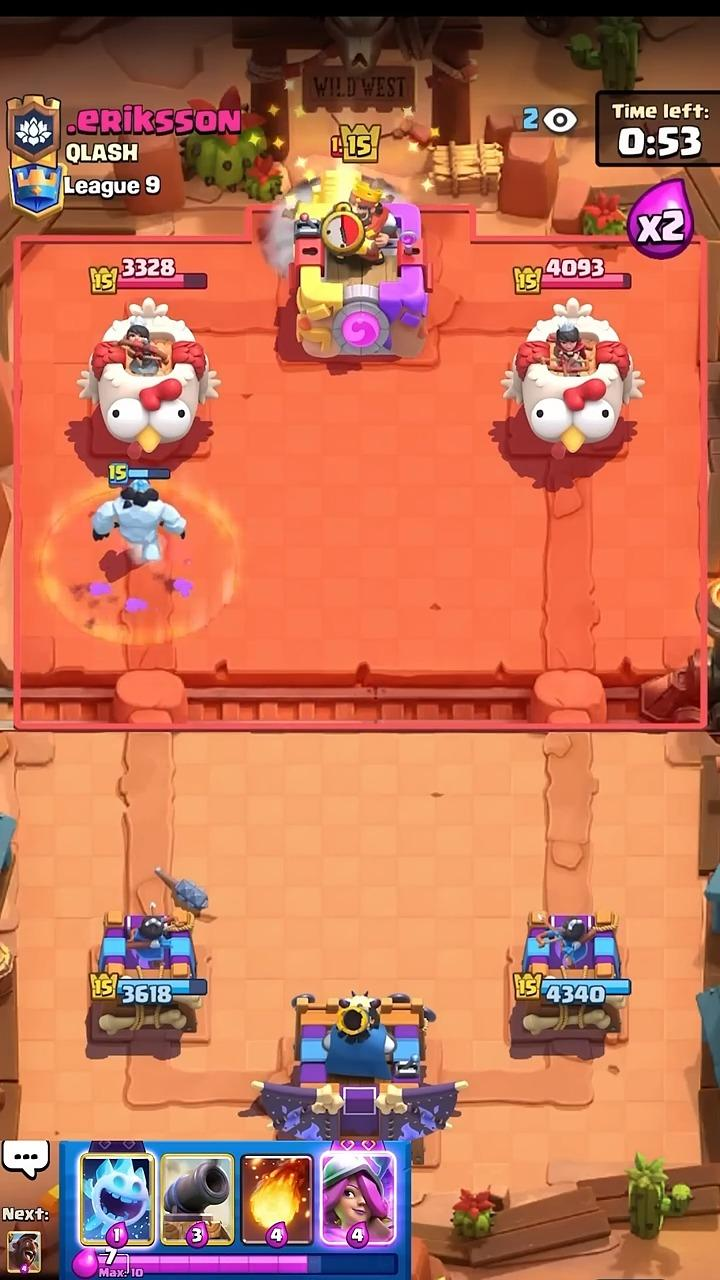ice golem: (93, 481, 186, 563)
sparky: (319, 165, 357, 204)
